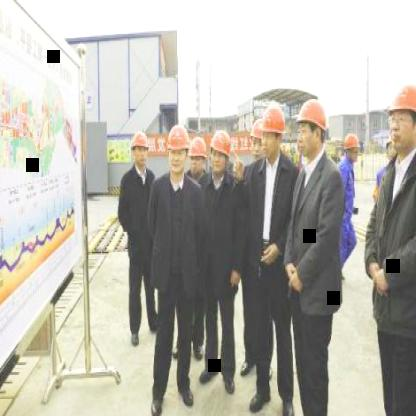helmet: (386, 78, 416, 160), (295, 95, 327, 161), (258, 105, 288, 161), (166, 123, 190, 177), (209, 128, 230, 178), (128, 128, 150, 168), (247, 118, 263, 172), (188, 134, 206, 178), (343, 130, 361, 166)
